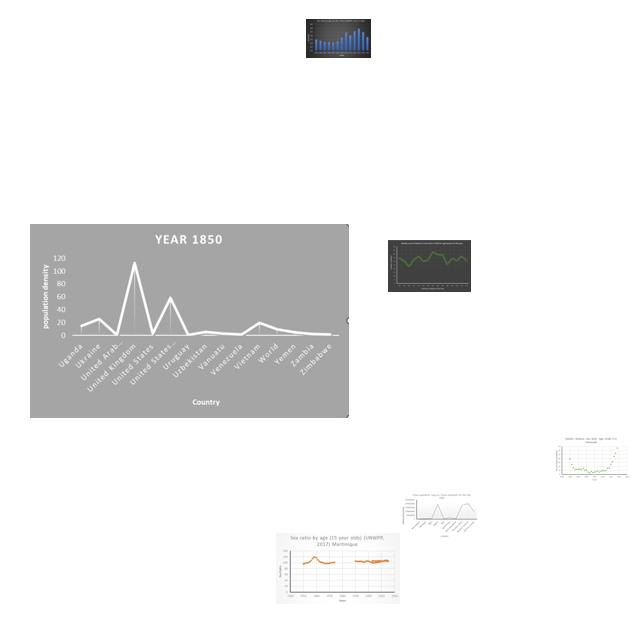Graph: (30, 224, 349, 418), (276, 533, 400, 604), (388, 240, 471, 292), (401, 493, 479, 538), (554, 437, 630, 481), (306, 19, 371, 58)
